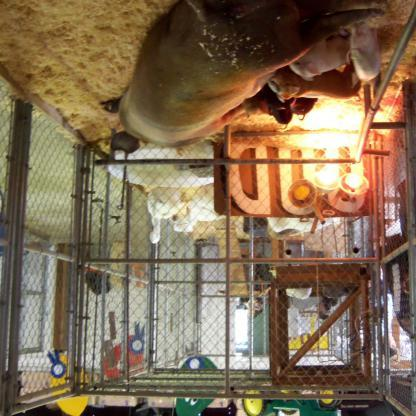boar: (98, 1, 382, 155)
